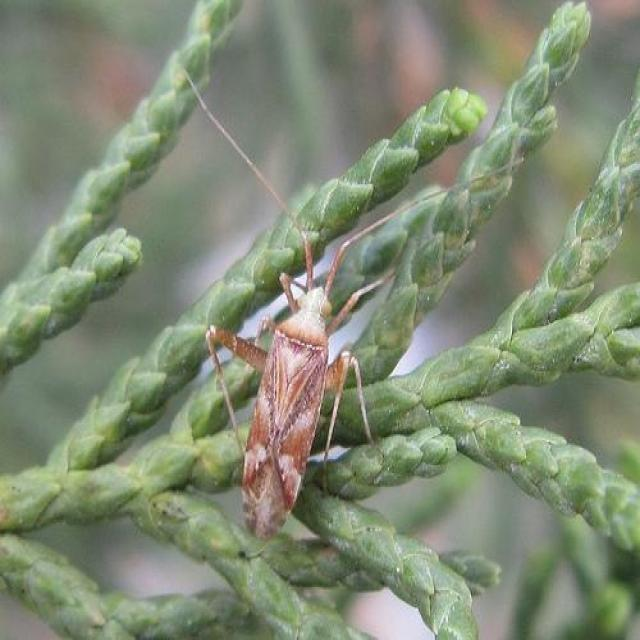Miridae-Adult-: (194, 113, 402, 542)
